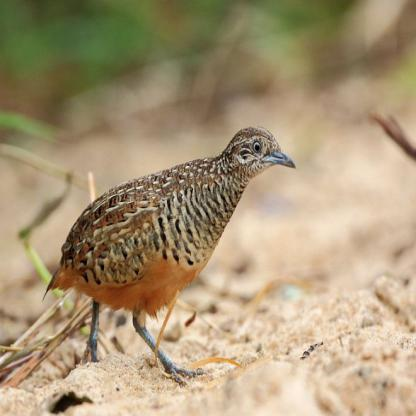Burung: (42, 125, 296, 386)
